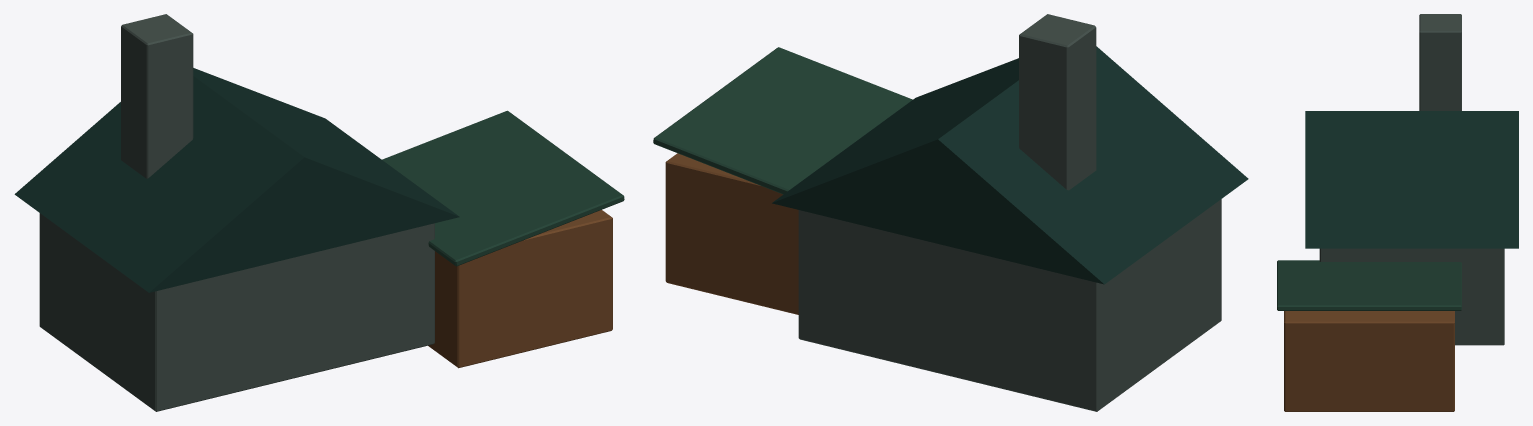
Rendered from LumenForgeYardV2.glb.
3 renders of one model, left to right at view 1: azimuth 30°, elevation 25°; view 2: azimuth 150°, elevation 25°; view 3: azimuth 270°, elevation 25°, orthographic. The views are drawn at different scales.
Visible parts, largest first — view 1: LumenForgeYardV2; view 2: LumenForgeYardV2; view 3: LumenForgeYardV2.
Part boxes in pixels (<box>): LumenForgeYardV2: <box>14,14,624,411</box>; LumenForgeYardV2: <box>653,14,1248,411</box>; LumenForgeYardV2: <box>1277,14,1518,411</box>.
Bounding box in the file's own units: 29.46 × 19.5 × 17.
1 material, 1 textured.
